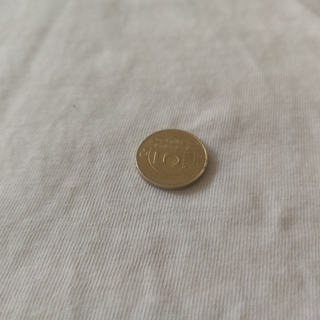5KURUS: (133, 126, 209, 192)
